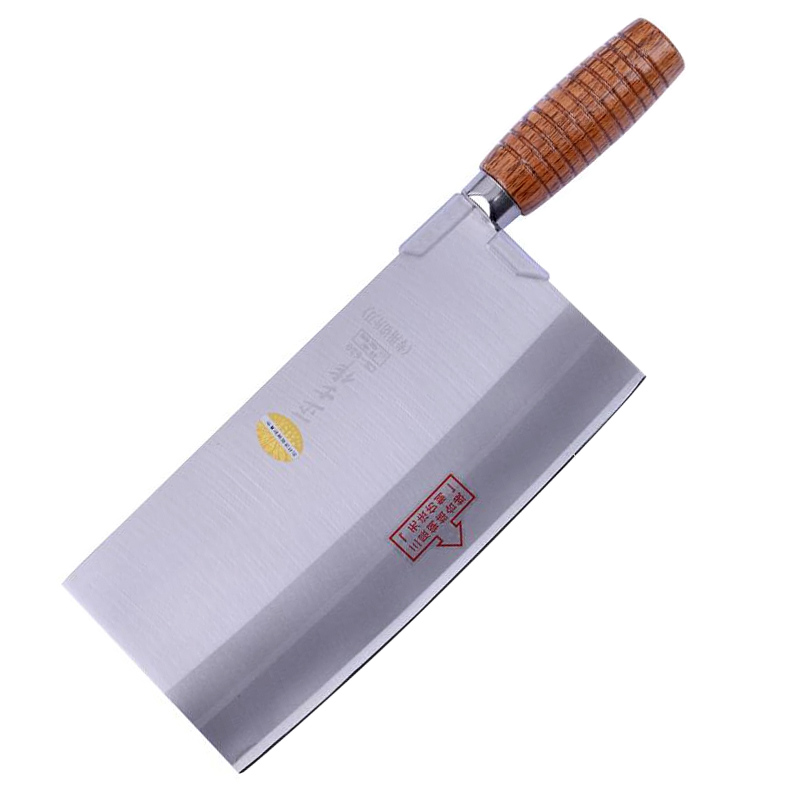knief: (106, 15, 705, 767)
